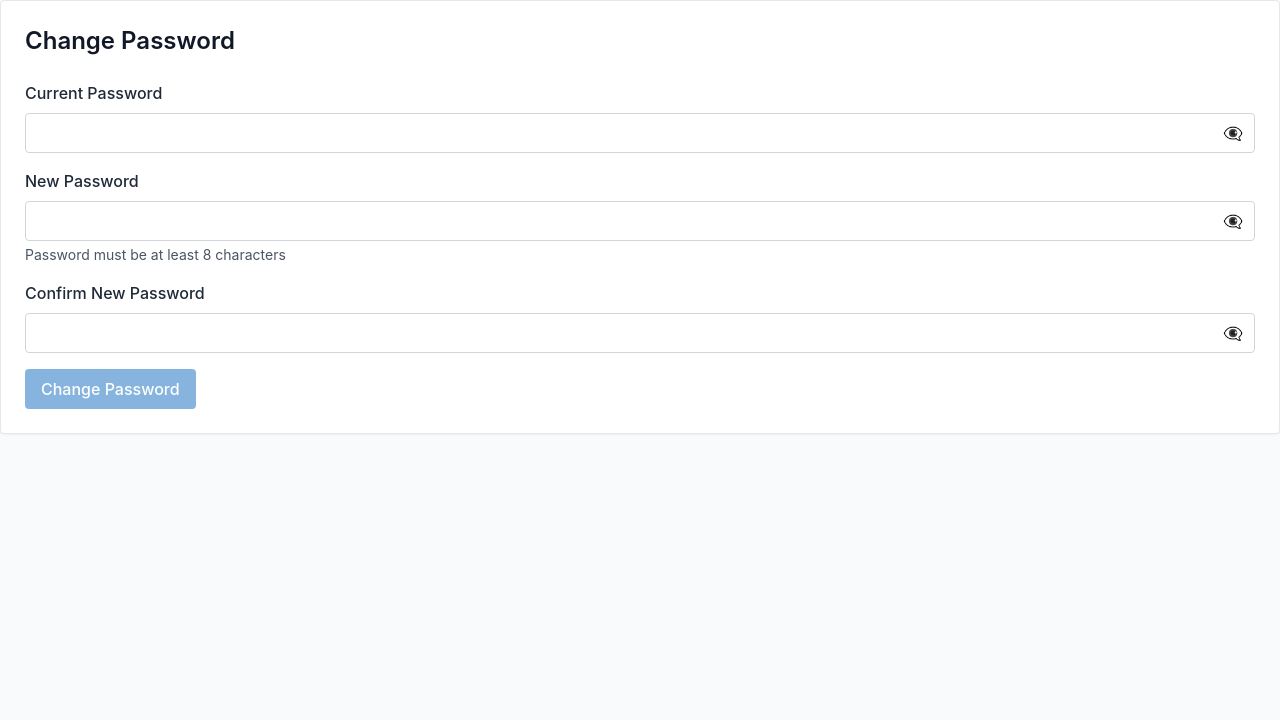
Test case: ChangePasswordForm › Password Validation › should show error when password is too short
In the password field labelled "Current Password": (640, 133) [25,113,1255,153], type "OldPass123!"
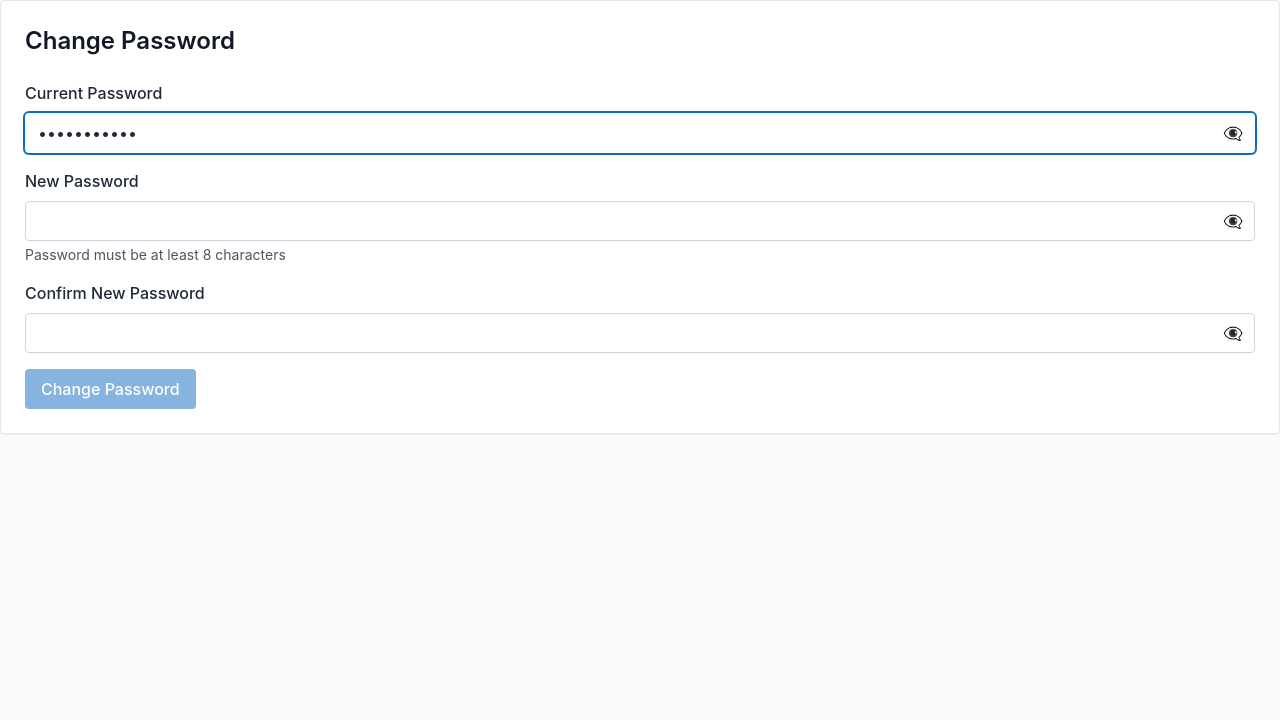
In the password field labelled "New Password": (640, 221) [25,201,1255,241], type "Short1"
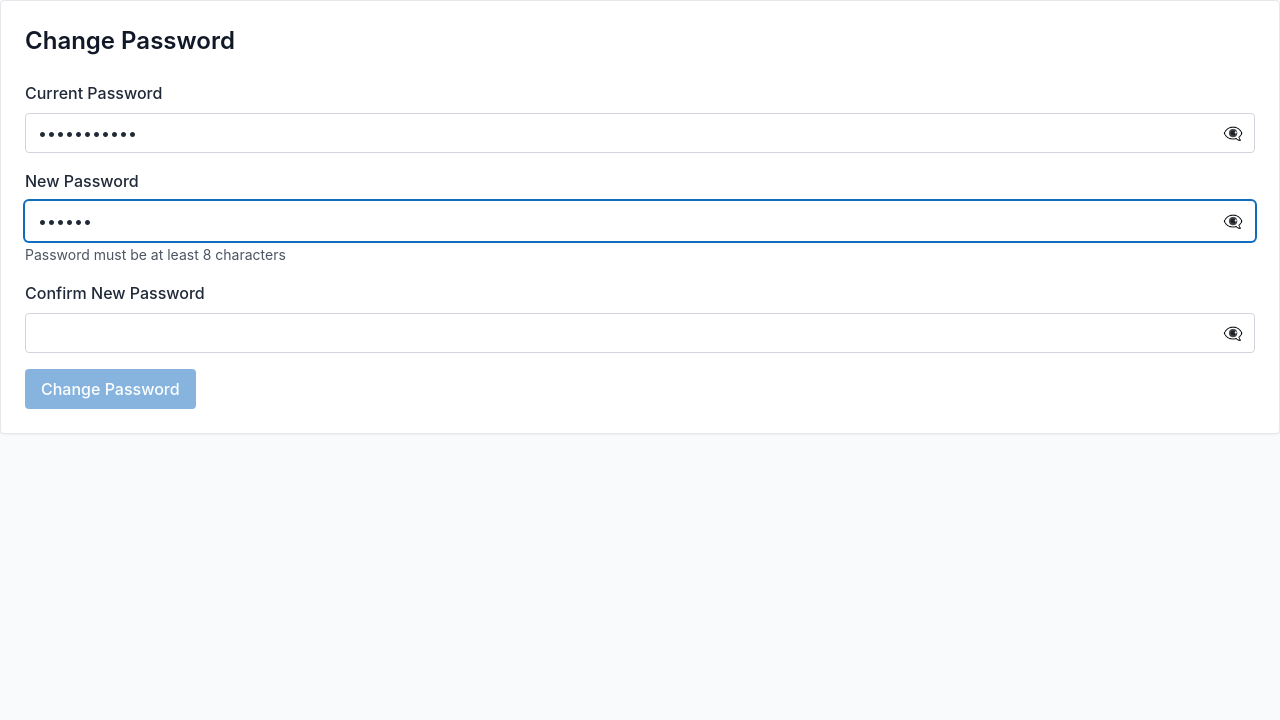
In the password field labelled "Confirm New Password": (640, 333) [25,313,1255,353], type "Short1"
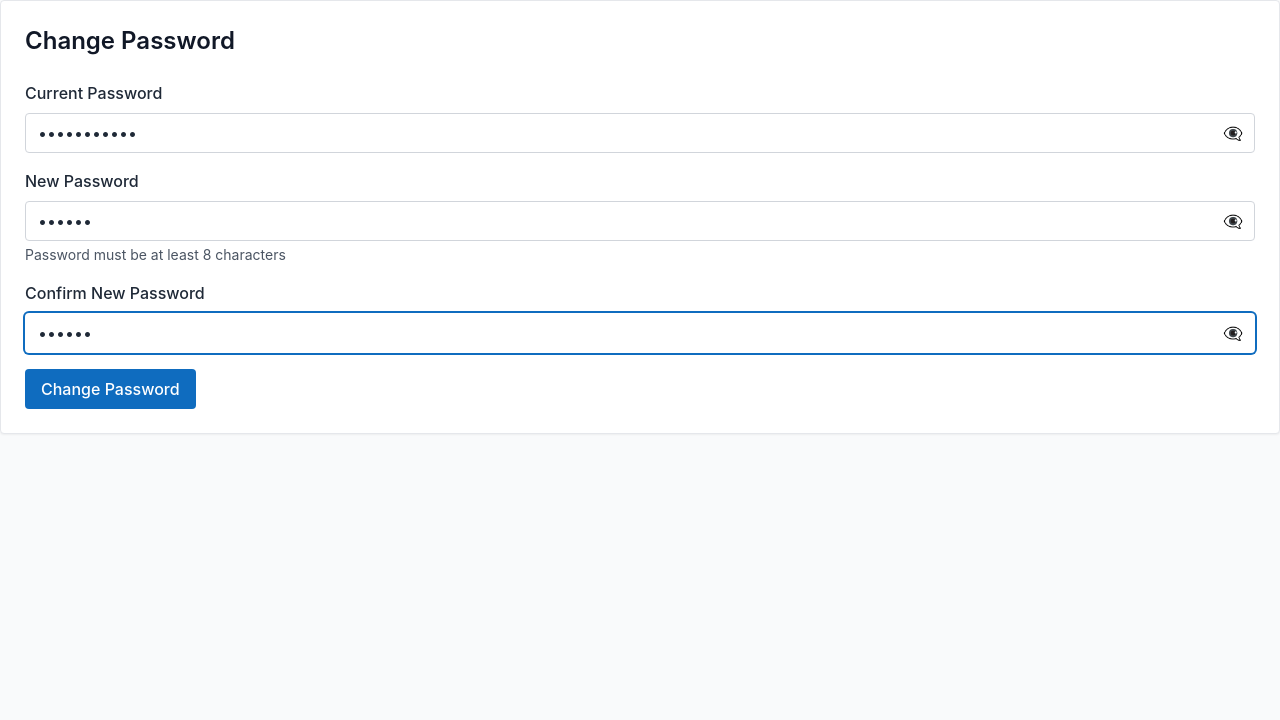
Click the button "Change Password": click(110, 389) [25,369,196,409]
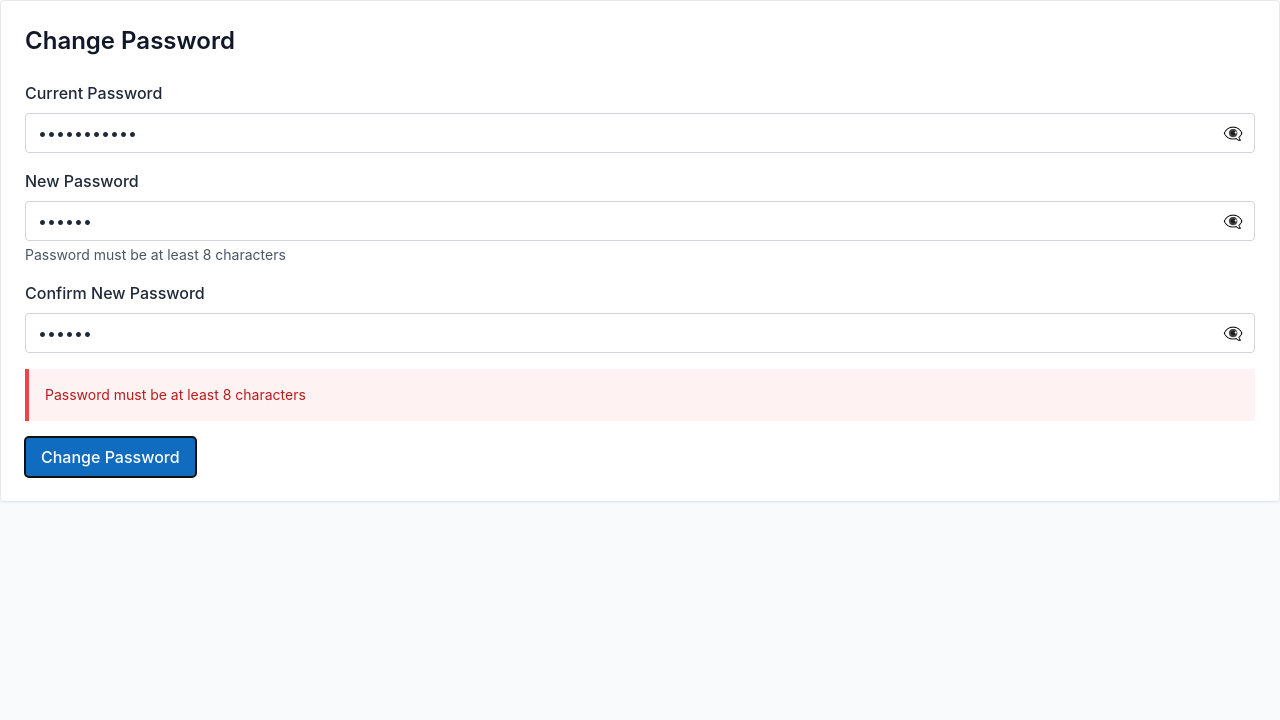
Expected: the 2nd text "Password must be at least 8 characters" is shown, [45,386,306,403]
